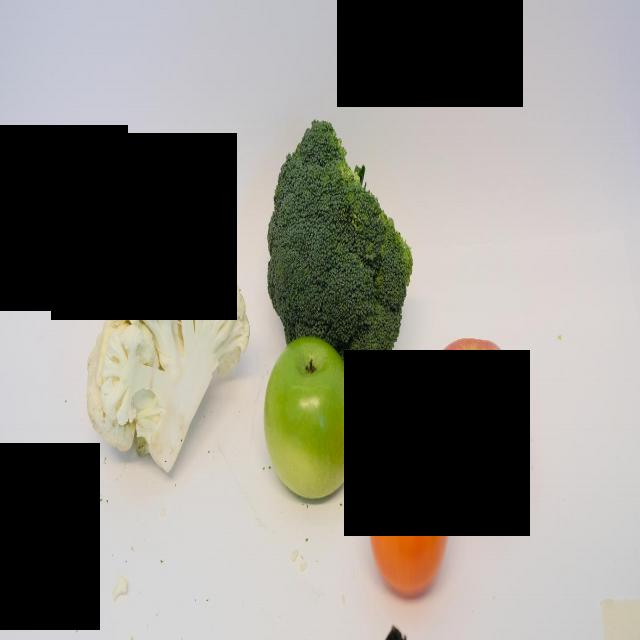apple: (430, 319, 532, 510), (262, 327, 362, 509)
broccoli: (265, 107, 412, 403)
cauliflower: (85, 233, 247, 474)
tomato: (373, 442, 459, 601)
